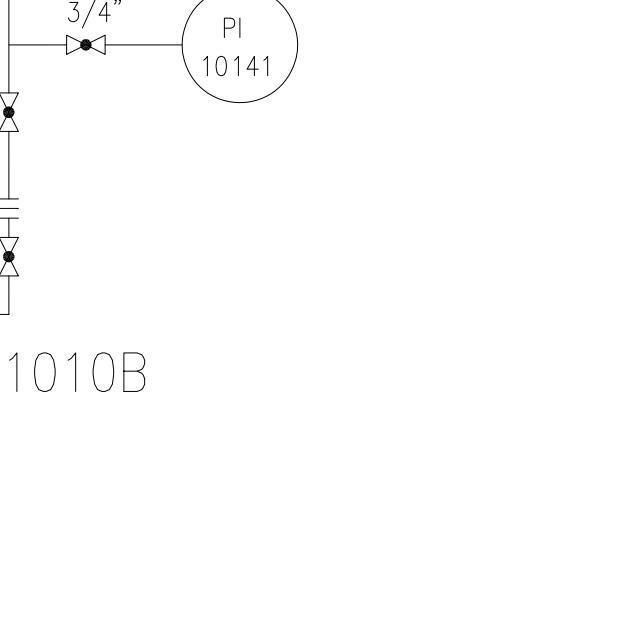BV2: (59, 33, 111, 59), (0, 88, 21, 138), (0, 232, 20, 282)
